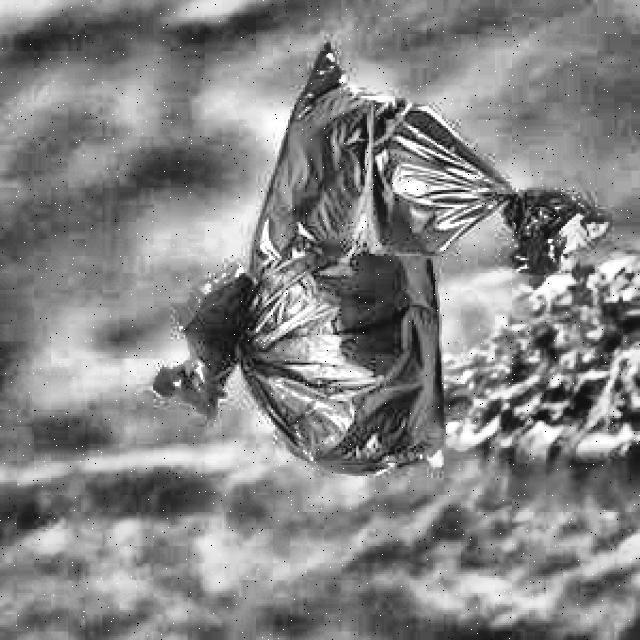Trashbag: (247, 33, 609, 295), (150, 230, 449, 479)
